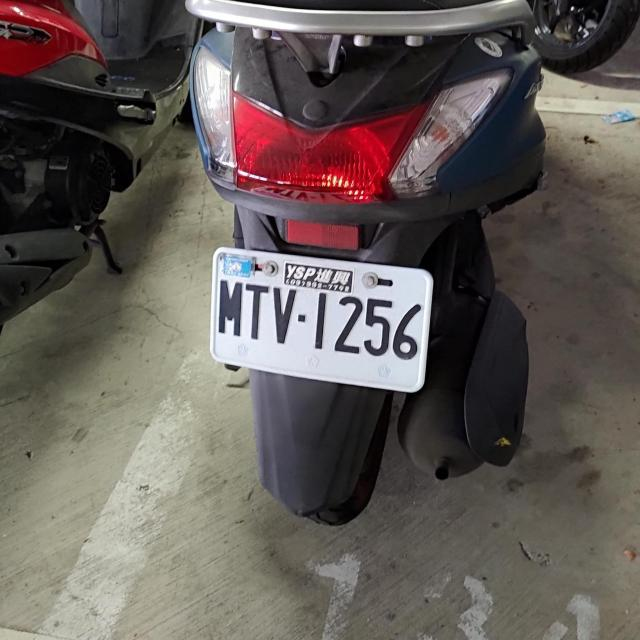W: (203, 242, 436, 393)
